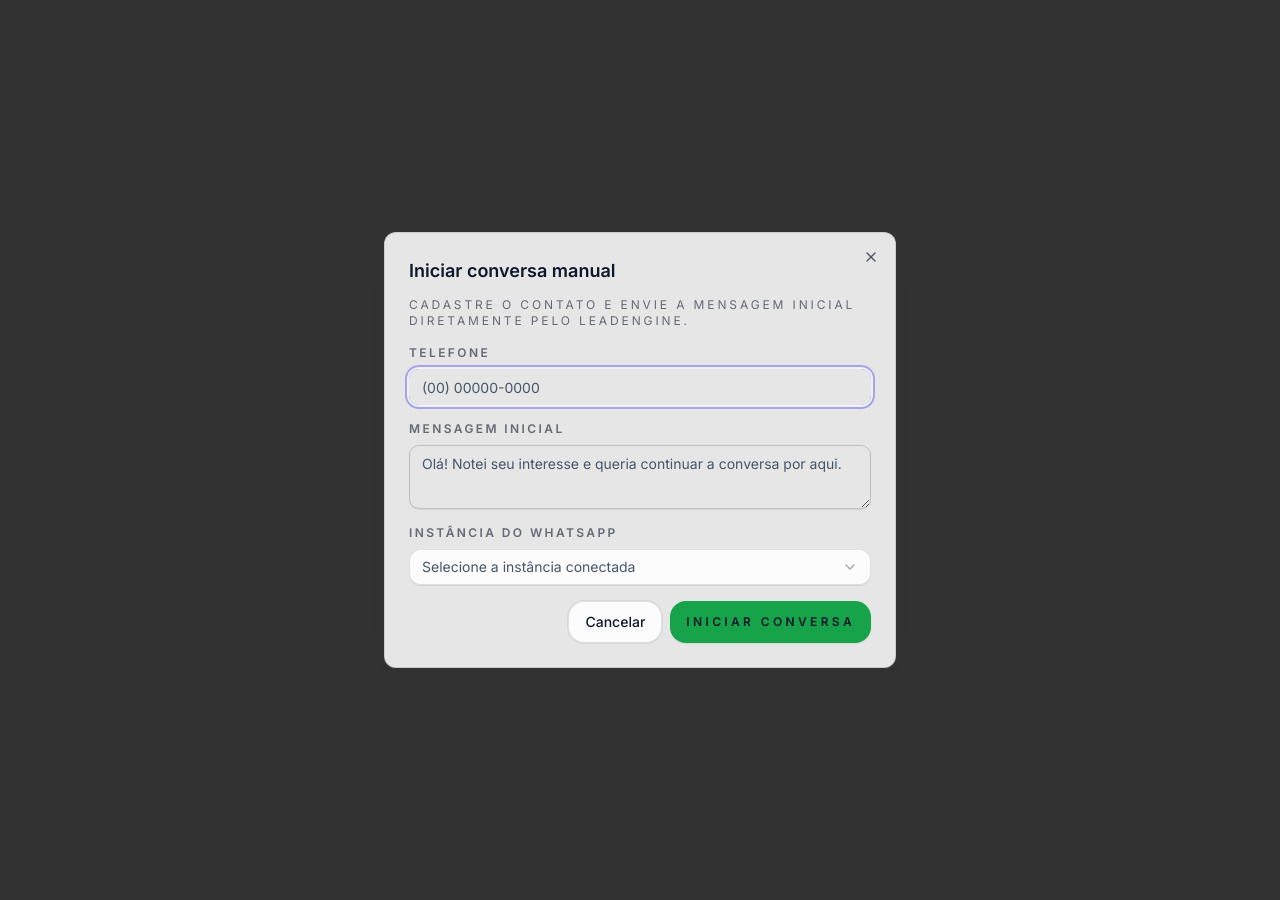
Test: ManualConversationDialog › mostra mensagens de erro de validação quando campos obrigatórios estão vazios
Click the button "Iniciar conversa" at (771, 622), box [670,601,871,643]
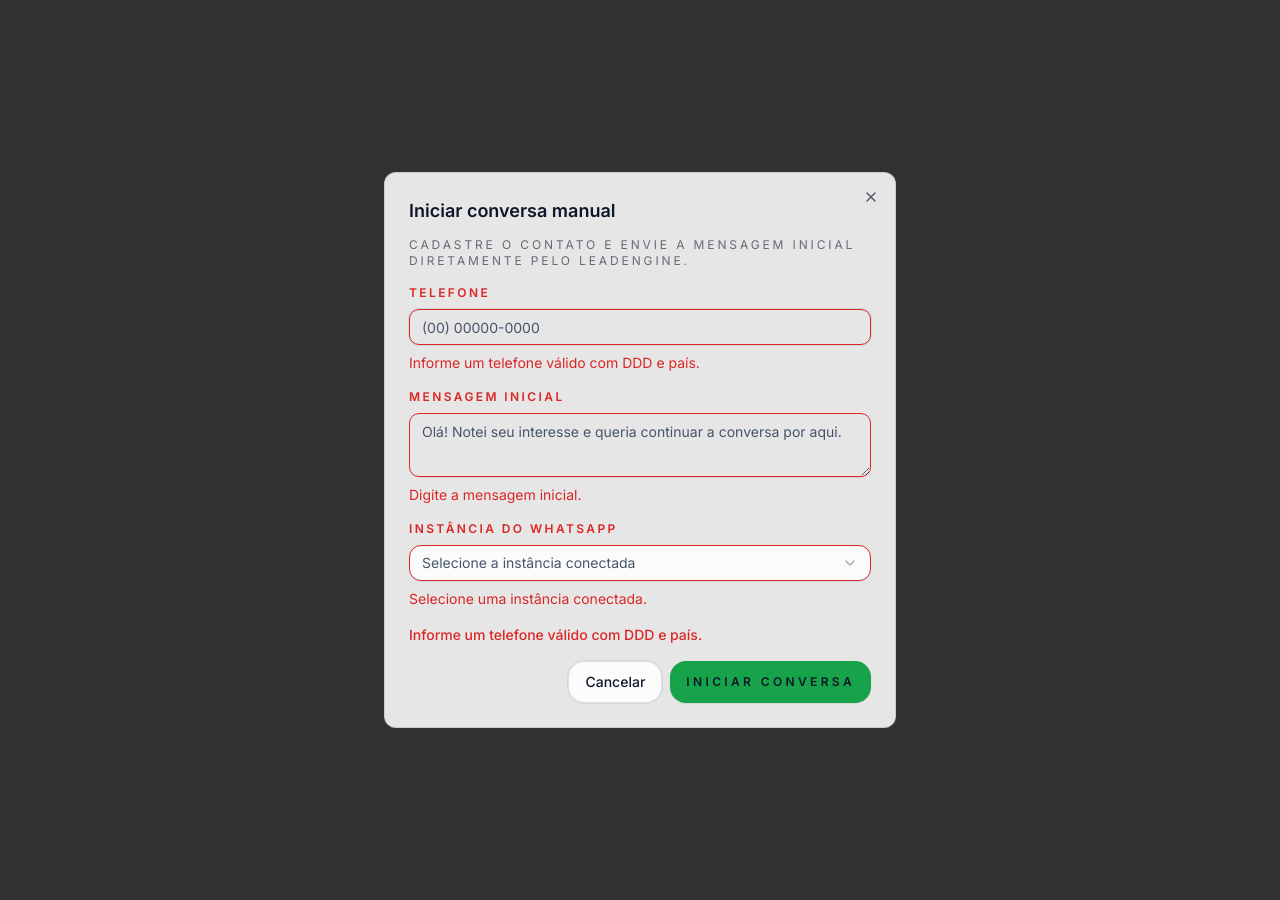
Expected: the 1st text "Informe um telefone válido com DDD e país." is shown, [409,354,700,371]
